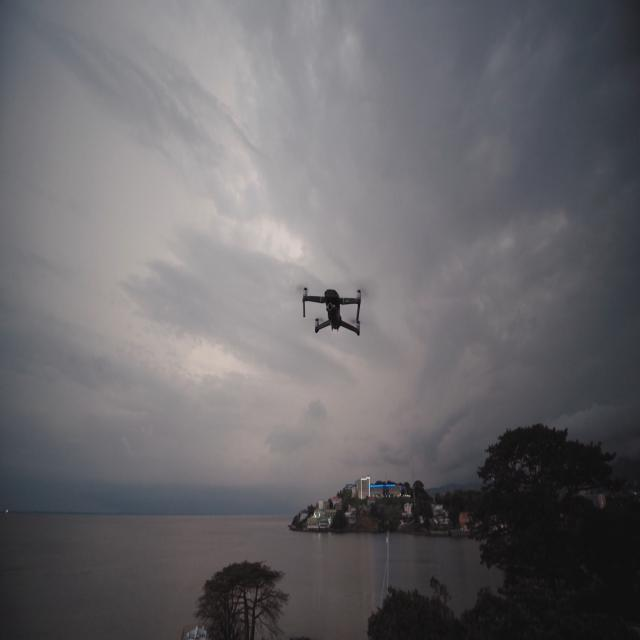drone: (302, 286, 361, 336)
